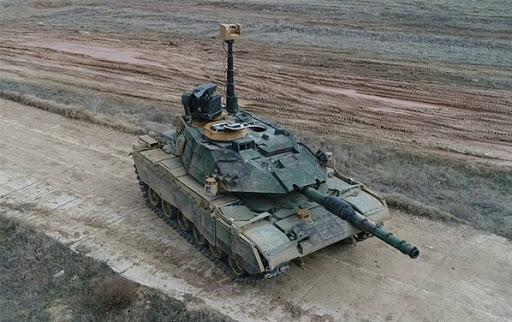tank: (128, 22, 420, 286)
